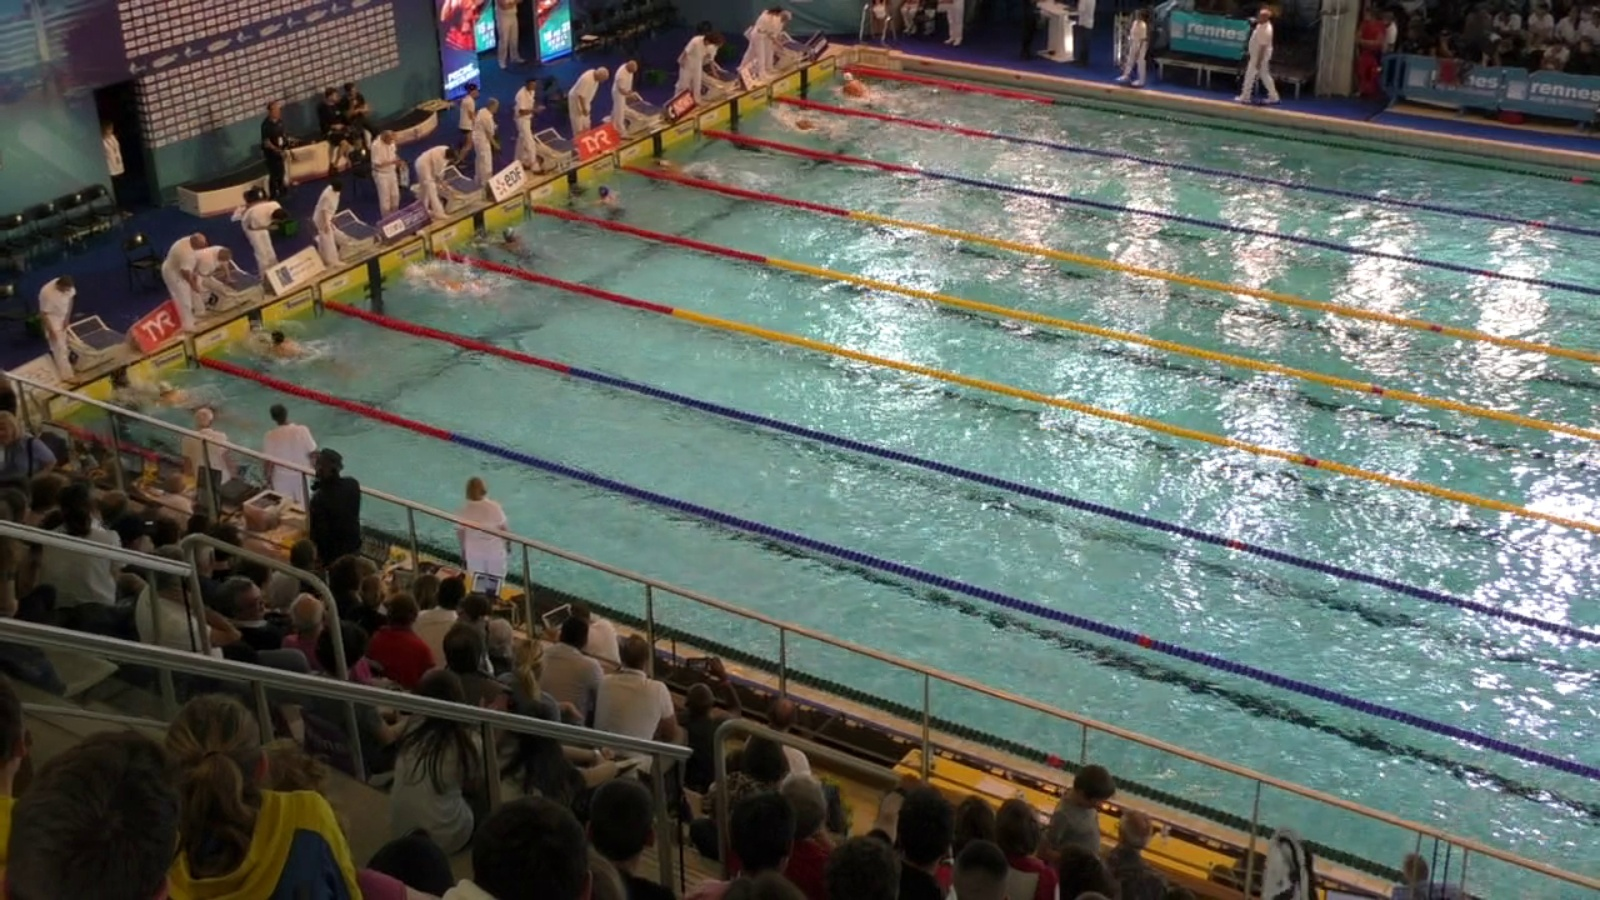swimmerwdd: (134, 377, 269, 431), (245, 325, 349, 380), (410, 257, 495, 307), (770, 103, 853, 147), (489, 221, 545, 275), (642, 149, 726, 184), (589, 184, 637, 233), (837, 67, 882, 109)
